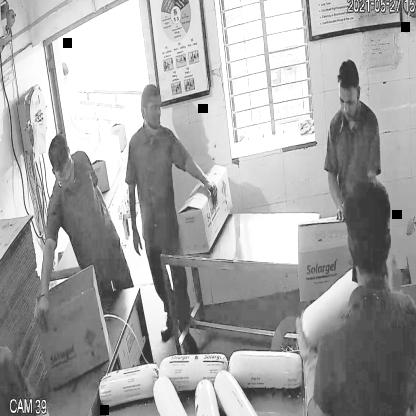no_goggles: (337, 90, 361, 112)
